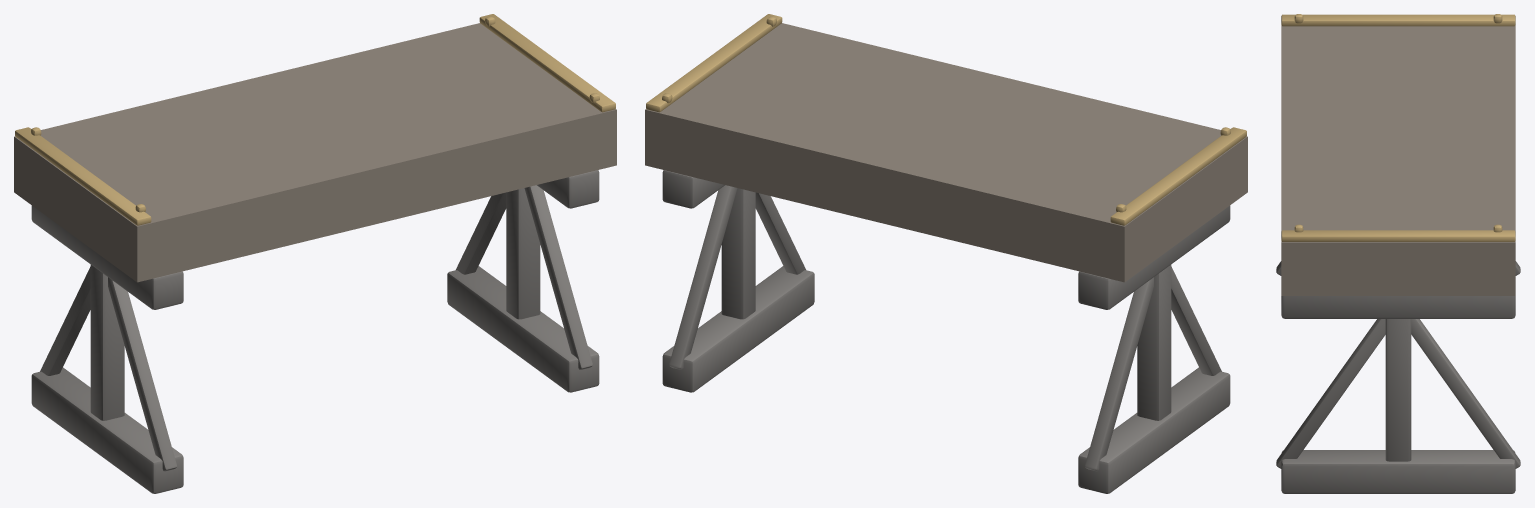
The model's file is SM_Area2_Deck_45.glb.
3 renders of one model, left to right at view 1: azimuth 30°, elevation 25°; view 2: azimuth 150°, elevation 25°; view 3: azimuth 270°, elevation 25°, orthographic. The views are drawn at different scales.
Parts seen in each view (by area): view 1: SM_Area2_Deck_45; view 2: SM_Area2_Deck_45; view 3: SM_Area2_Deck_45.
Part boxes in pixels (box(x1,y1,x2,y2)): SM_Area2_Deck_45: box(14, 14, 616, 493); SM_Area2_Deck_45: box(645, 14, 1247, 493); SM_Area2_Deck_45: box(1276, 14, 1520, 493).
Bounding box in the file's own units: 4.5 × 2.56 × 2.08.
